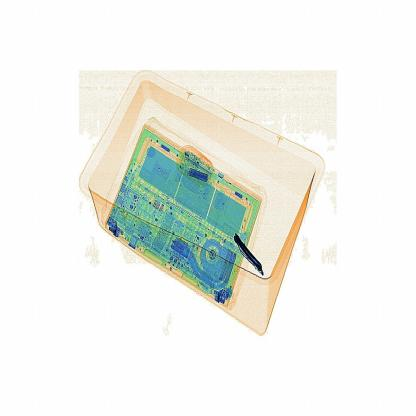knife: (217, 229, 273, 279)
